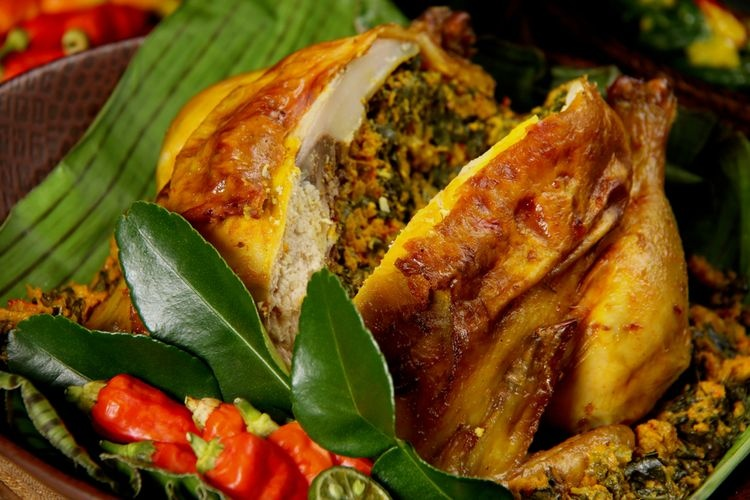ayam_betutu: (157, 24, 676, 272)
